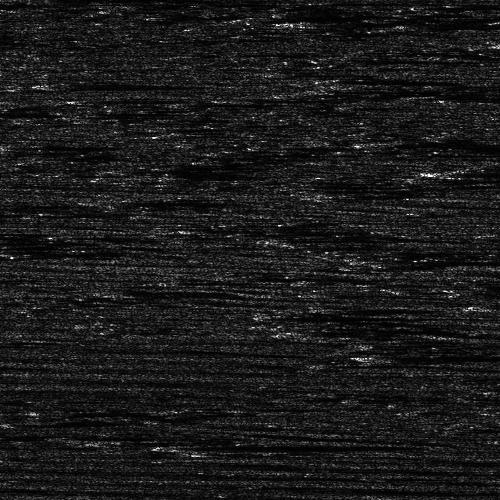object: (433, 300, 500, 309), (355, 139, 418, 144), (139, 442, 202, 447), (420, 167, 461, 174), (475, 38, 500, 47), (52, 81, 83, 84)
shadow: (170, 442, 406, 447), (387, 139, 500, 144), (440, 167, 500, 174), (68, 81, 193, 84), (0, 210, 14, 215)
